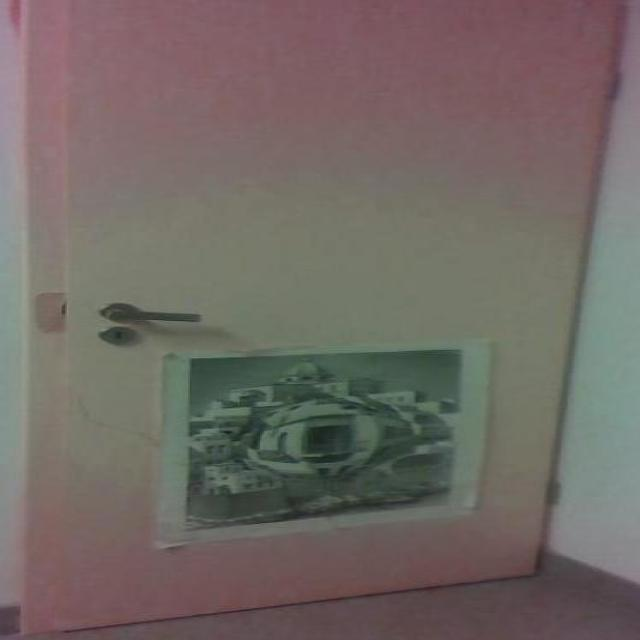door_handle: (103, 302, 203, 333)
